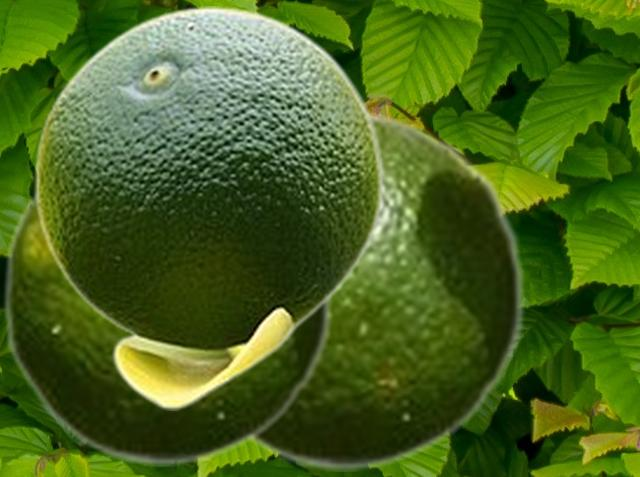calamansi: (34, 6, 383, 409), (250, 110, 526, 470), (1, 185, 333, 465)
